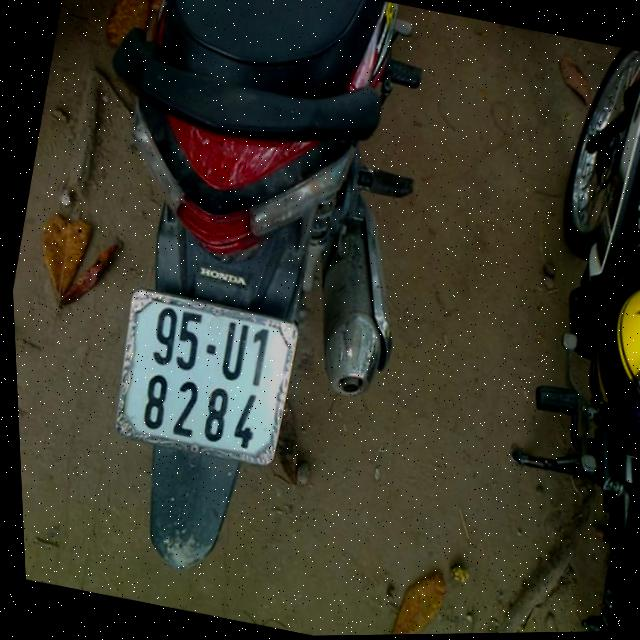plate: (98, 286, 311, 480)
